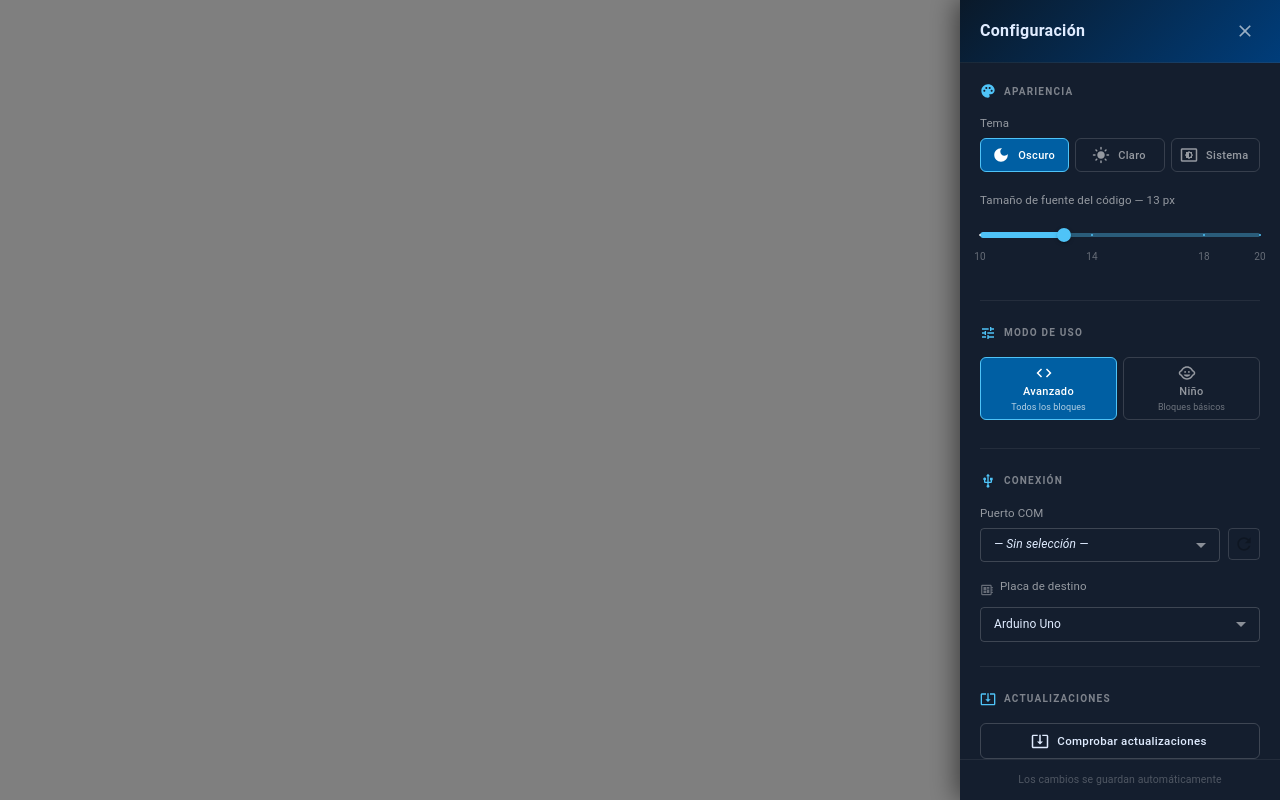
Test: SettingsDialog en modo escritorio › comprobar actualizaciones informa cuando no hay ninguna
Click the button "Comprobar actualizaciones" at [1120, 741], box [980,723,1260,759]
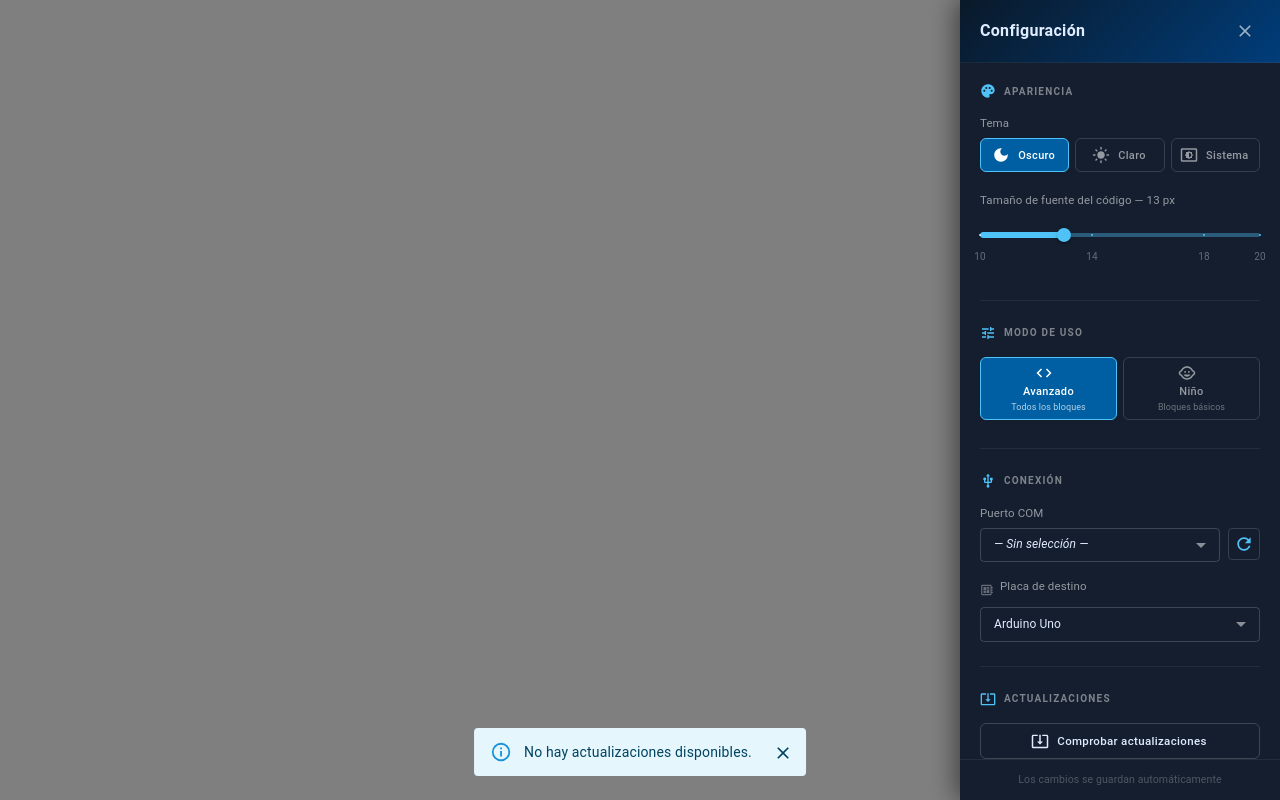
Check: the text "No hay actualizaciones disponibles." is shown, box [524,744,752,760]
